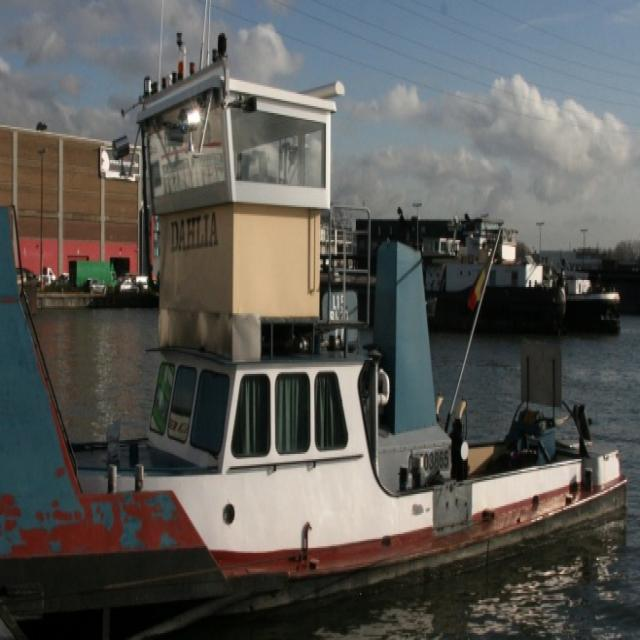tugboat: (1, 27, 633, 640)
